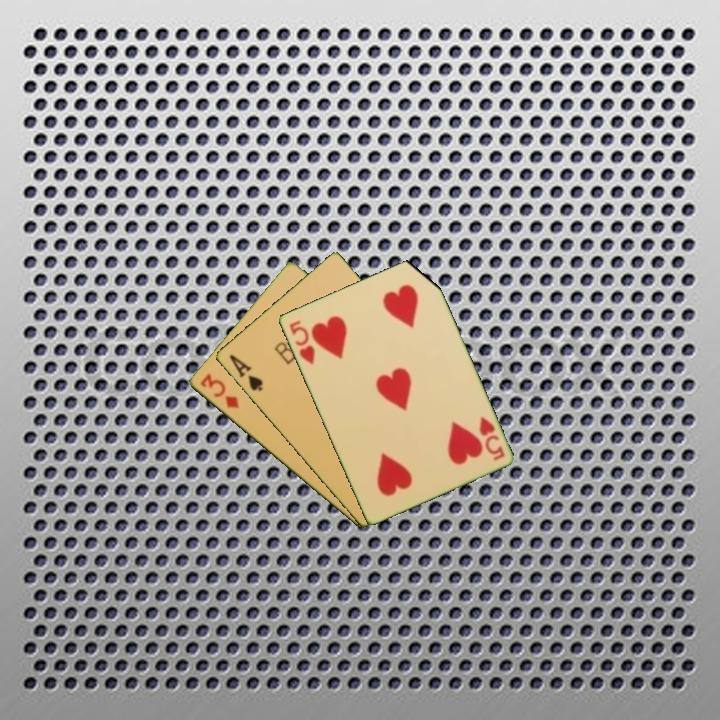3d: (196, 370, 242, 412)
5h: (285, 316, 317, 367), (475, 413, 507, 463)
As: (225, 351, 266, 394)
